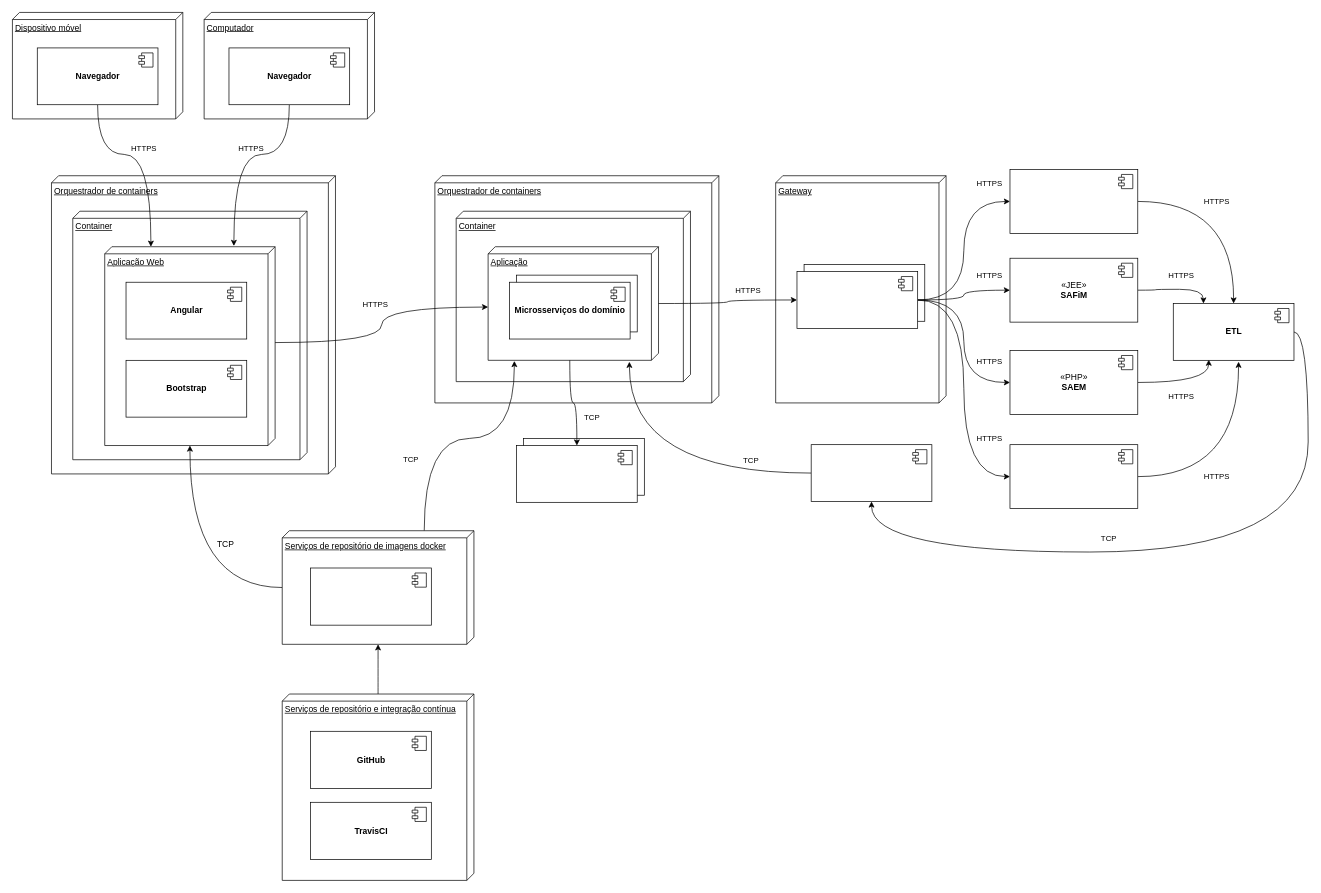
The diagram is 1321 pixels wide and 893 high, and some of its shapes have lost their labels. The centre of each missing label's shape, as x and y in pixels:
"API Gateways" belongs at point 857,299.
"Bases de dados do domínio" belongs at point 576,473.
"Data warehouse" belongs at point 871,472.
"Docker Hub" belongs at point 370,596.
"«.Net» SASCi" belongs at point 1073,476.
"«Serviço» STUR" belongs at point 1073,201.
